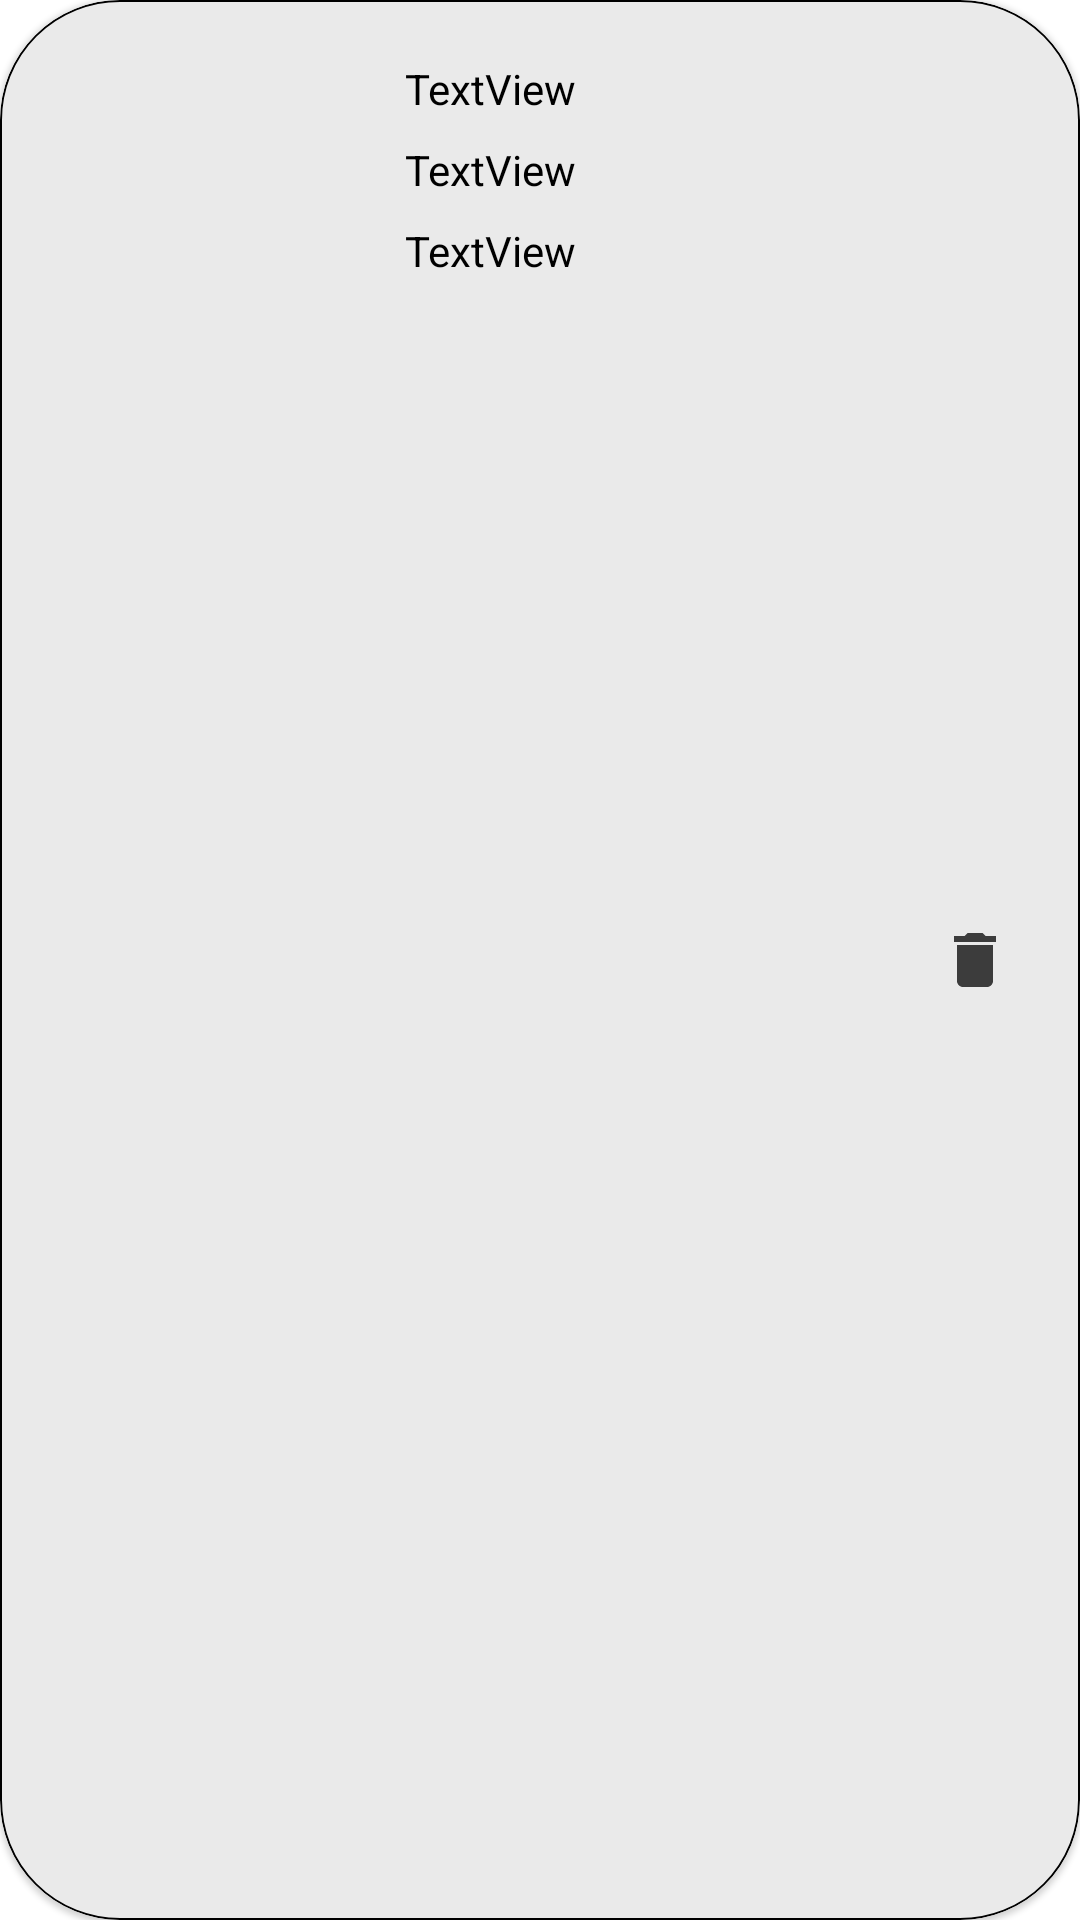

Point at icon controls on the screen. Image size 1080px×1920px, points as (x=x, y=y).
delete: (x=975, y=960)
